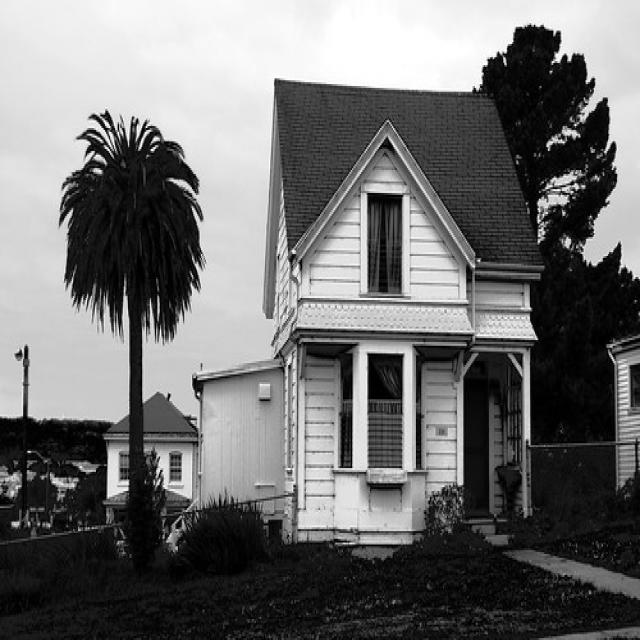Normal_building: (190, 74, 546, 555), (103, 392, 198, 536)
